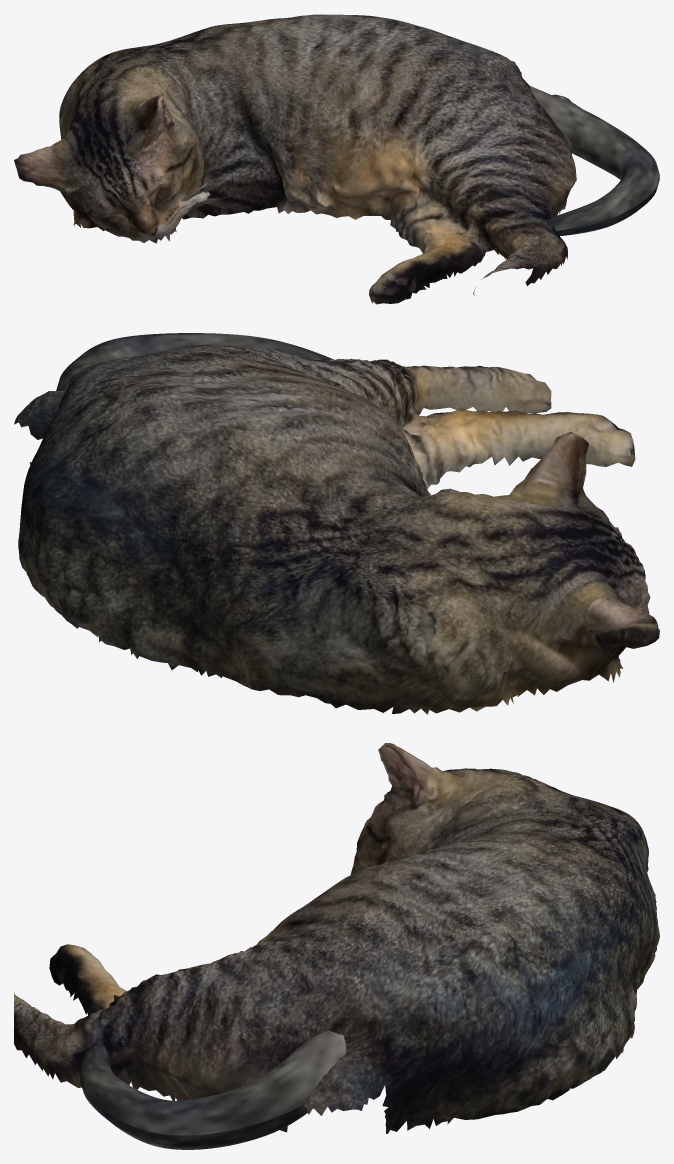
Rendered from sleeping-tabby.glb.
3 views of the same model, one above another, from view 1: azimuth 30°, elevation 25°; view 2: azimuth 150°, elevation 25°; view 3: azimuth 270°, elevation 25° (orthographic). The views are drawn at different scales.
Parts seen in each view (by area): view 1: Sleeping tabby — Alben Tan (CC BY 4.0); view 2: Sleeping tabby — Alben Tan (CC BY 4.0); view 3: Sleeping tabby — Alben Tan (CC BY 4.0).
Boxes of the visible parts, bbox=[...] form: Sleeping tabby — Alben Tan (CC BY 4.0): bbox=[14, 14, 659, 304]; Sleeping tabby — Alben Tan (CC BY 4.0): bbox=[14, 333, 659, 714]; Sleeping tabby — Alben Tan (CC BY 4.0): bbox=[14, 743, 659, 1149].
Bounding box in the file's own units: 0.46 × 0.1185 × 0.3967.
Materials: 1 (1 with a texture image).
